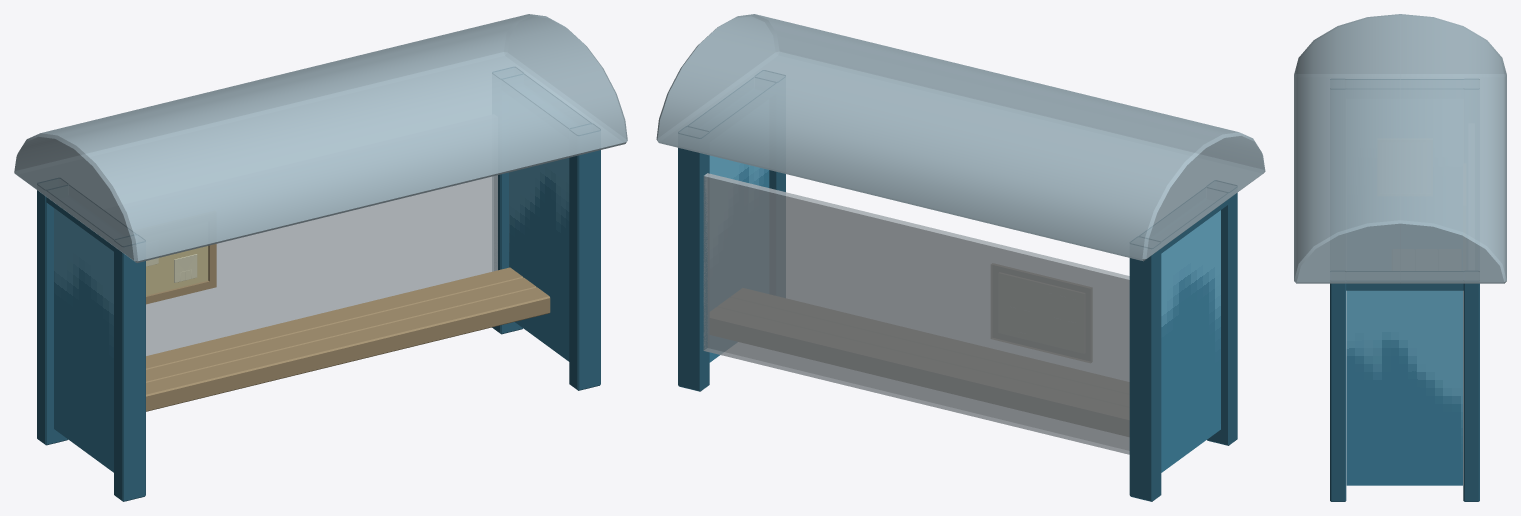
Rendered from bus_stop.fbx.
The picture shows the model from 3 angles, left to right: view 1: azimuth 30°, elevation 25°; view 2: azimuth 150°, elevation 25°; view 3: azimuth 270°, elevation 25°; orthographic projection. The views are drawn at different scales.
Parts seen in each view (by area): view 1: glass_roof, body, glass; view 2: glass_roof, glass, body; view 3: glass_roof, body.
Boxes of the visible parts, <box> form: glass_roof: <box>14,14,627,262</box>; body: <box>37,67,600,501</box>; glass: <box>146,175,497,355</box>; glass_roof: <box>656,14,1265,261</box>; glass: <box>703,173,1129,454</box>; body: <box>678,70,1237,501</box>; glass_roof: <box>1294,14,1506,283</box>; body: <box>1330,79,1479,501</box>.
Size of the model in its own units: 419 by 266 by 181.
